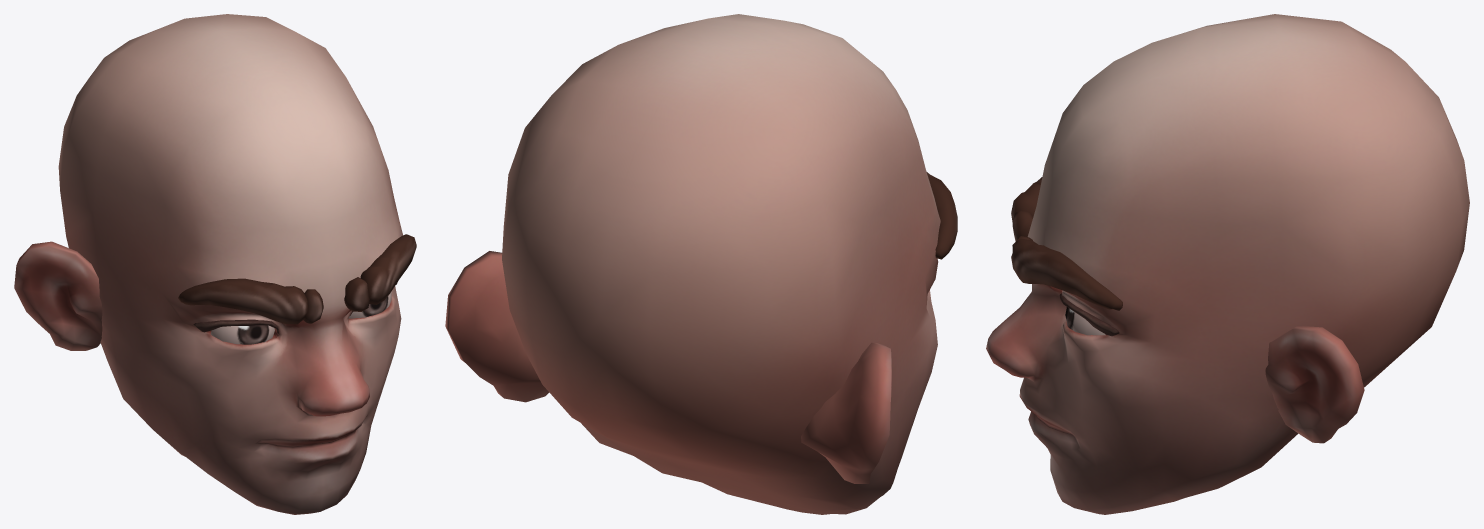
The model's file is Male_Head_Blender.fbx.
3 views of the same model, side by side, from view 1: azimuth 30°, elevation 25°; view 2: azimuth 150°, elevation 25°; view 3: azimuth 270°, elevation 25° (orthographic). The views are drawn at different scales.
Visible parts, largest first — view 1: Male_Head_1; view 2: Male_Head_1; view 3: Male_Head_1.
Part boxes in pixels (x1,y1,x2,y2): Male_Head_1: (14, 14, 416, 514); Male_Head_1: (445, 14, 957, 514); Male_Head_1: (986, 14, 1469, 514).
Size of the model in its own units: 0.2197 by 0.252 by 0.235.
